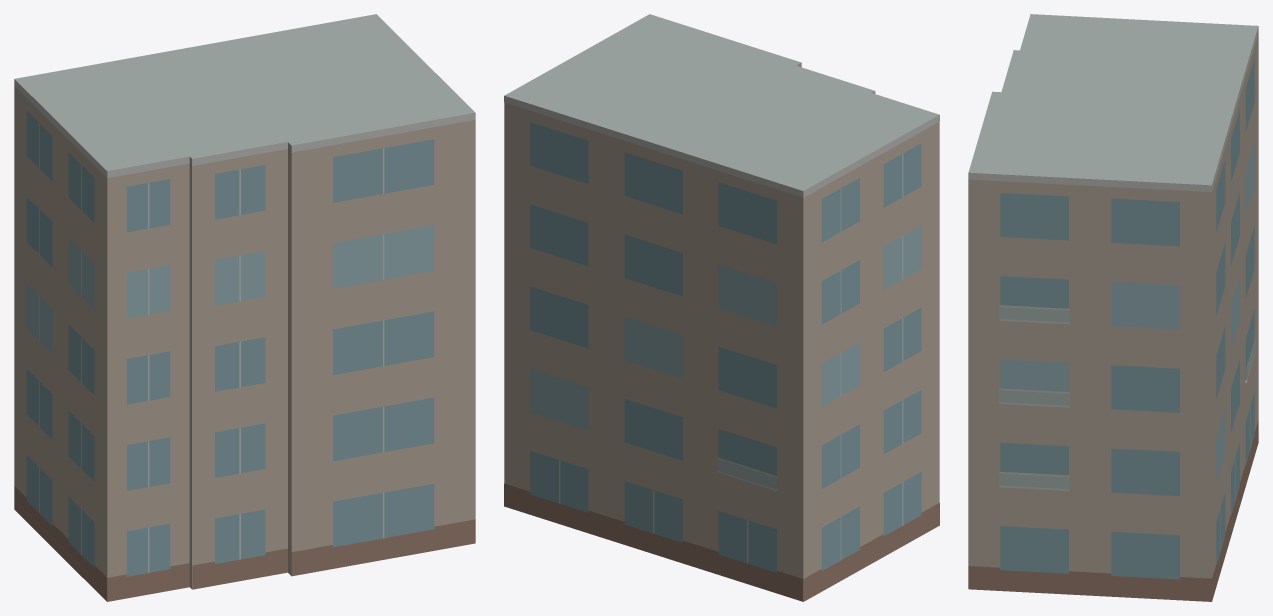
The model's file is survey-upis-33009353.glb.
The picture shows the model from 3 angles, left to right: view 1: azimuth 30°, elevation 25°; view 2: azimuth 150°, elevation 25°; view 3: azimuth 270°, elevation 25°; orthographic projection. The views are drawn at different scales.
Visible parts, largest first — view 1: survey-upis-33009353.tmp; view 2: survey-upis-33009353.tmp; view 3: survey-upis-33009353.tmp.
Part boxes in pixels (x1,y1,x2,y2): survey-upis-33009353.tmp: (14, 14, 475, 601); survey-upis-33009353.tmp: (504, 14, 939, 601); survey-upis-33009353.tmp: (968, 14, 1258, 601).
Bounding box in the file's own units: 13.11 × 14.85 × 9.38.
